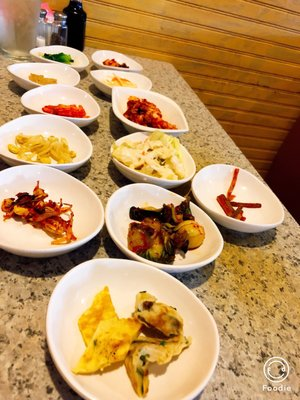sushi: (47, 258, 220, 400), (105, 182, 225, 275), (0, 164, 104, 259), (190, 164, 284, 236), (0, 114, 93, 173), (111, 130, 196, 190), (111, 87, 189, 136), (20, 84, 100, 128), (6, 62, 80, 91), (88, 69, 153, 99), (30, 45, 90, 75), (90, 50, 143, 72)
